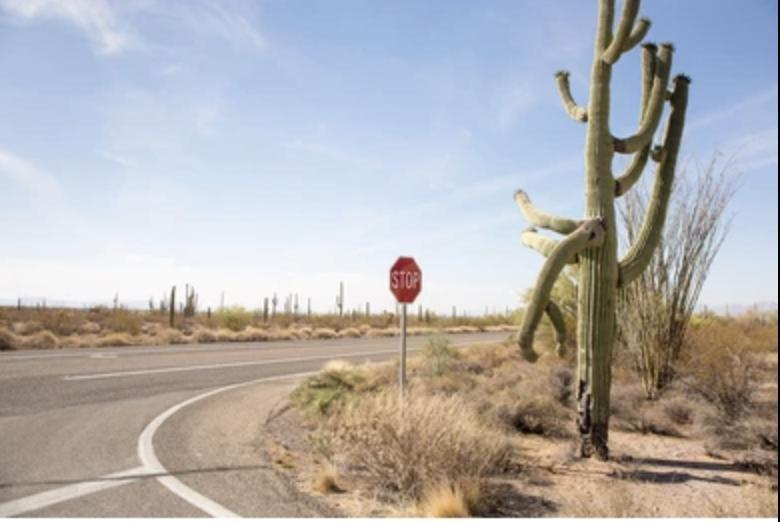Stop-Sign: (390, 258, 422, 304)
